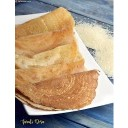dosa: (17, 10, 99, 107)
